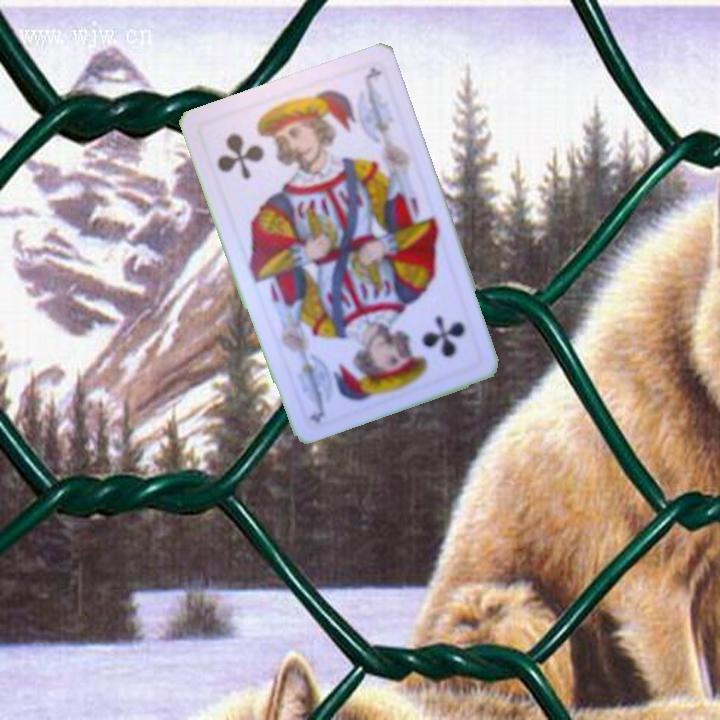c_j.png: (197, 92, 318, 205), (364, 284, 485, 396)
